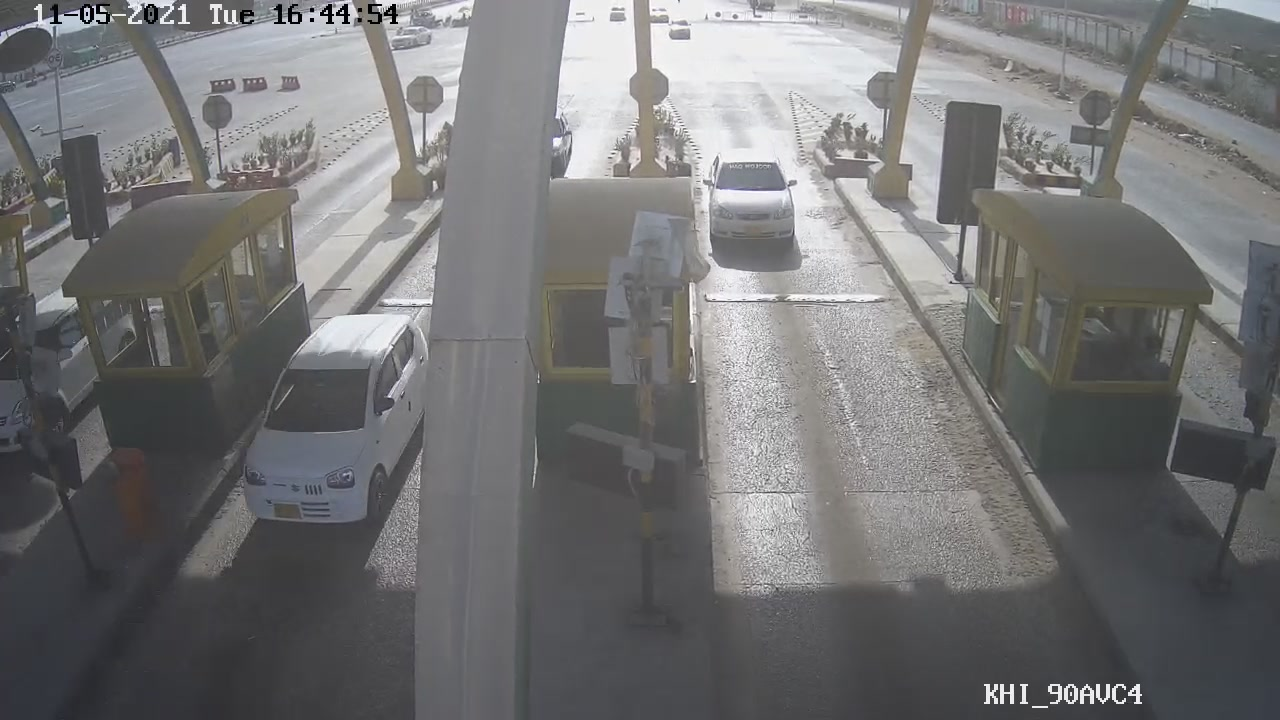F1: (699, 141, 805, 255)
